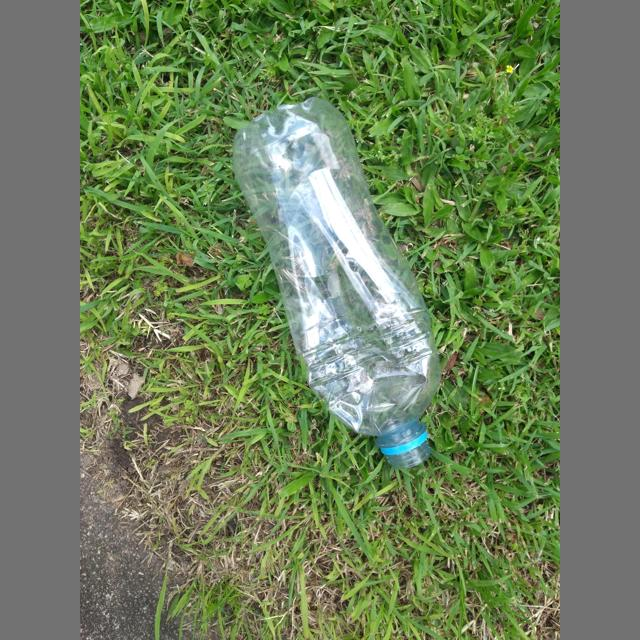litter: (232, 97, 442, 469)
